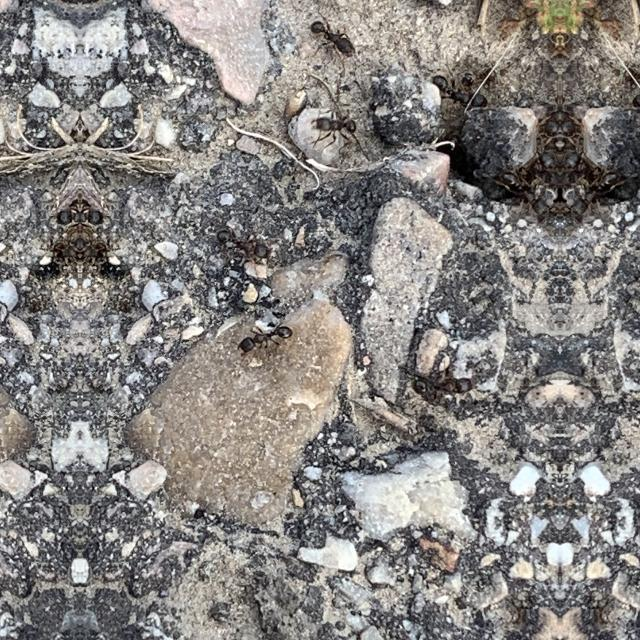Tetramorium: (230, 311, 296, 359), (304, 9, 362, 63), (430, 68, 492, 118), (300, 102, 362, 148), (403, 359, 475, 395), (216, 225, 278, 258), (626, 68, 640, 118)
